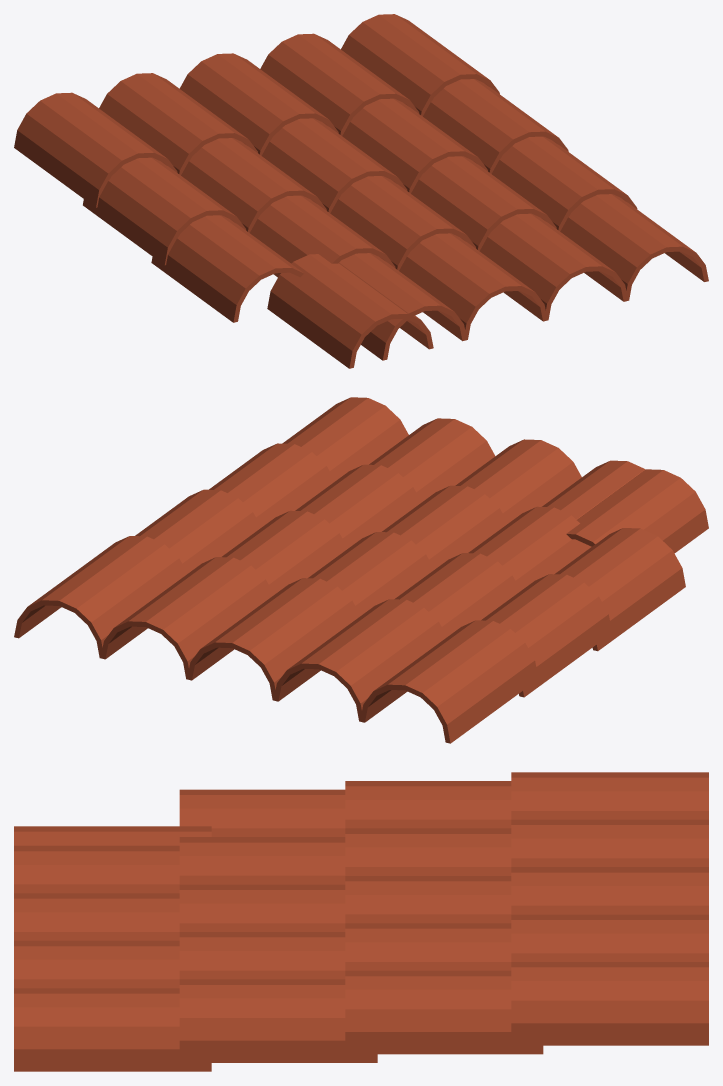
The model's file is source-edit.glb.
3 renders of one model, top to bottom at view 1: azimuth 30°, elevation 25°; view 2: azimuth 150°, elevation 25°; view 3: azimuth 270°, elevation 25°, orthographic. The views are drawn at different scales.
Visible parts, largest first — view 1: Tile_0_0, Tile_3_0, Tile_2_0, Tile_1_0, Tile_3_2, Tile_3_4, Tile_3_1, Tile_3_3, Tile_0_2, Tile_0_4, Tile_0_3, Tile_1_4 (+8 smaller); view 2: Tile_3_0, Tile_3_3, Tile_3_1, Tile_3_4, Tile_3_2, Tile_2_0, Tile_1_0, Tile_0_0, Tile_1_3, Tile_2_1, Tile_2_2, Tile_2_4 (+8 smaller); view 3: Tile_3_4, Tile_2_4, Tile_1_4, Tile_0_4, Tile_3_0, Tile_3_1, Tile_3_2, Tile_3_3, Tile_0_1, Tile_0_3, Tile_1_1, Tile_2_1 (+8 smaller).
Part boxes in pixels (x1=…): Tile_0_0: x1=267, y1=254, x2=433, y2=368; Tile_3_0: x1=14, y1=92, x2=177, y2=207; Tile_2_0: x1=83, y1=157, x2=246, y2=265; Tile_1_0: x1=151, y1=215, x2=303, y2=322; Tile_3_2: x1=179, y1=53, x2=338, y2=155; Tile_3_4: x1=341, y1=14, x2=499, y2=116; Tile_3_1: x1=99, y1=73, x2=258, y2=175; Tile_3_3: x1=260, y1=33, x2=419, y2=135; Tile_0_2: x1=399, y1=233, x2=547, y2=340; Tile_0_4: x1=560, y1=194, x2=708, y2=300; Tile_0_3: x1=479, y1=213, x2=628, y2=320; Tile_1_4: x1=492, y1=136, x2=637, y2=231; Tile_3_0: x1=360, y1=620, x2=538, y2=743; Tile_3_3: x1=100, y1=557, x2=274, y2=679; Tile_3_1: x1=273, y1=599, x2=446, y2=721; Tile_3_4: x1=14, y1=536, x2=187, y2=659; Tile_3_2: x1=187, y1=578, x2=360, y2=700; Tile_2_0: x1=481, y1=574, x2=611, y2=697; Tile_1_0: x1=554, y1=528, x2=685, y2=651; Tile_0_0: x1=566, y1=469, x2=708, y2=553; Tile_1_3: x1=295, y1=464, x2=421, y2=548; Tile_2_1: x1=394, y1=553, x2=520, y2=636; Tile_2_2: x1=308, y1=532, x2=434, y2=615; Tile_2_4: x1=135, y1=489, x2=261, y2=573; Tile_3_4: x1=511, y1=962, x2=708, y2=1045; Tile_2_4: x1=345, y1=970, x2=543, y2=1054; Tile_1_4: x1=179, y1=979, x2=377, y2=1062; Tile_0_4: x1=14, y1=988, x2=211, y2=1071; Tile_3_0: x1=511, y1=772, x2=708, y2=819; Tile_3_1: x1=511, y1=819, x2=708, y2=866; Tile_3_2: x1=511, y1=867, x2=708, y2=914; Tile_3_3: x1=511, y1=914, x2=708, y2=961; Tile_0_1: x1=14, y1=845, x2=179, y2=893; Tile_0_3: x1=14, y1=940, x2=179, y2=988; Tile_1_1: x1=179, y1=837, x2=345, y2=884; Tile_2_1: x1=345, y1=828, x2=511, y2=875.
Bounding box in the file's own units: 1.06 × 0.164 × 1.3.
